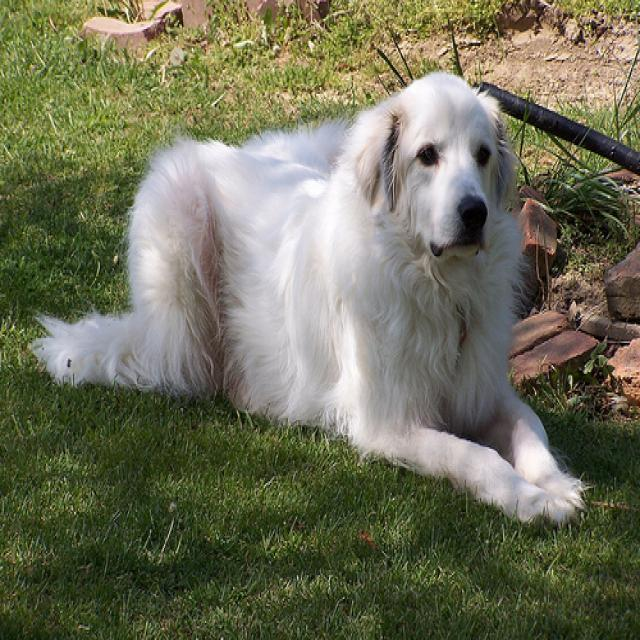dog-great_pyrenees: (19, 65, 596, 538)
